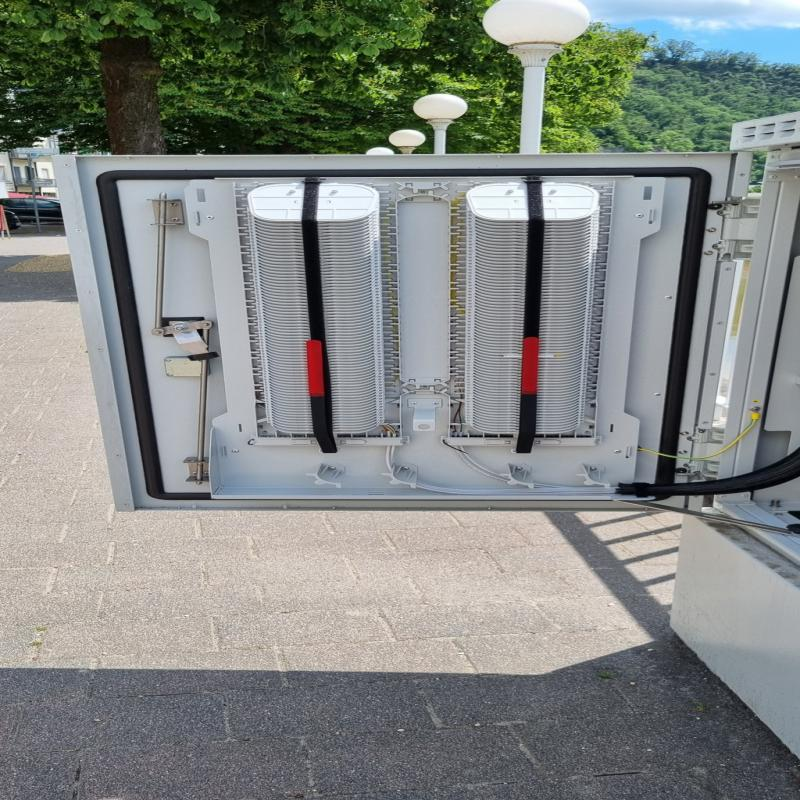NT-Gehause: (58, 111, 800, 758)
Spleiskassetten: (446, 178, 614, 438), (242, 180, 396, 445)
